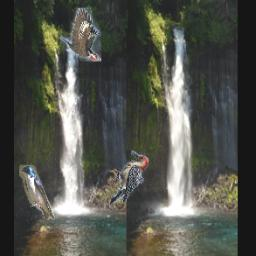Swallow: (20, 165, 56, 220)
Woodpecker: (61, 9, 102, 63), (108, 152, 149, 205)
